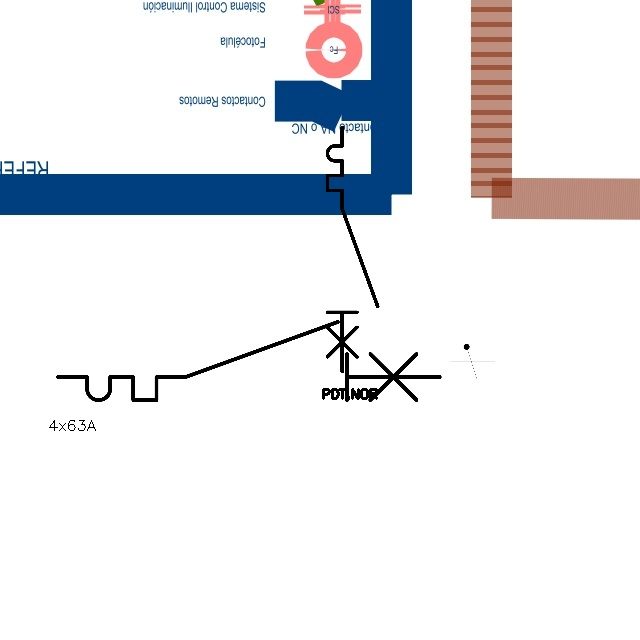interruptor_termomagnetico: (48, 312, 450, 410), (321, 121, 384, 378)
